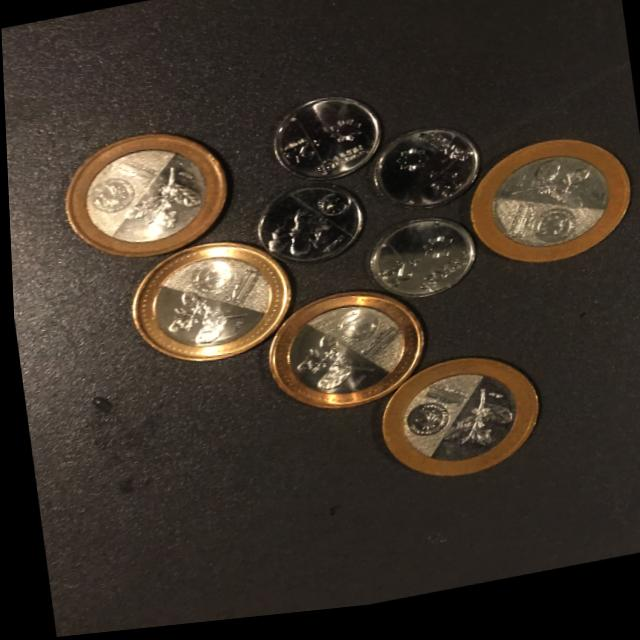20_New_Back: (497, 165, 598, 238), (117, 161, 203, 246), (154, 283, 249, 357), (431, 390, 516, 472), (282, 330, 369, 404)
